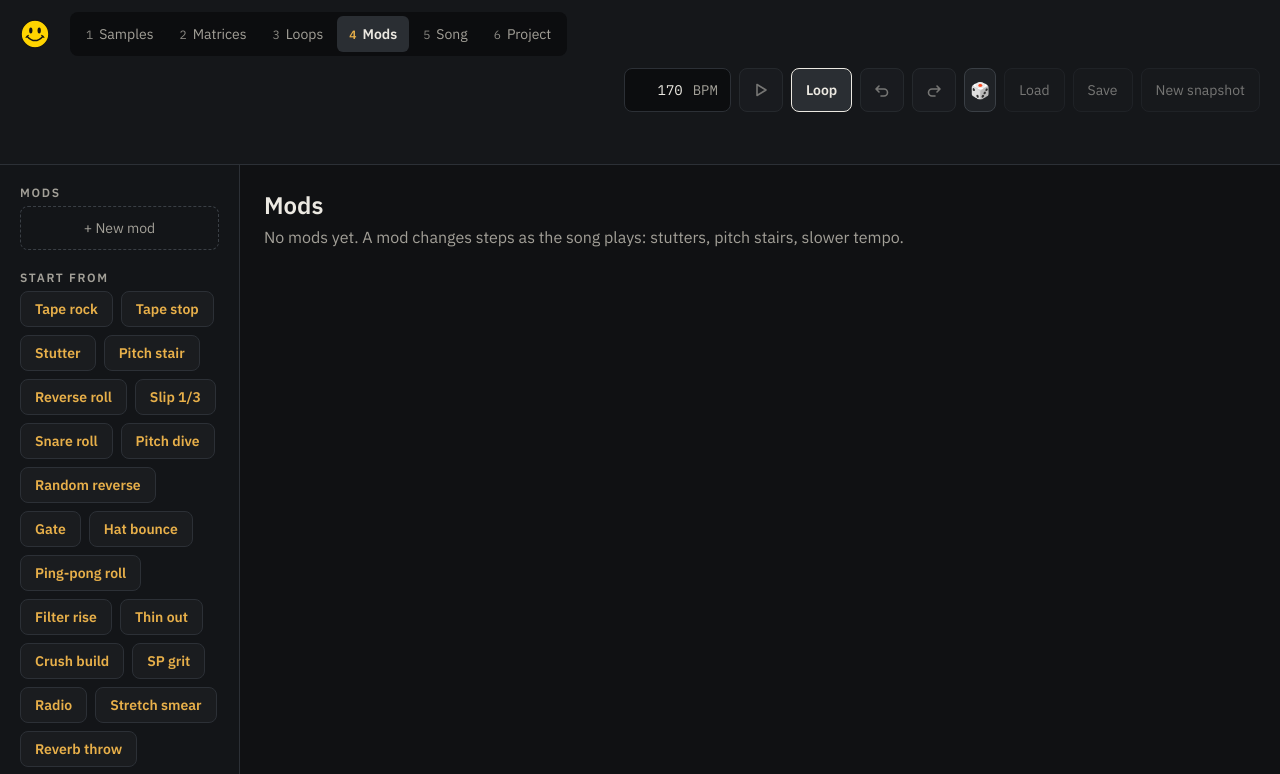
audio mods in Mods › Halftime has no lane: Speed and Keep pitch, and its sentence
Click the button "+ New mod". click: (120, 228)
box: [20,206,219,250]
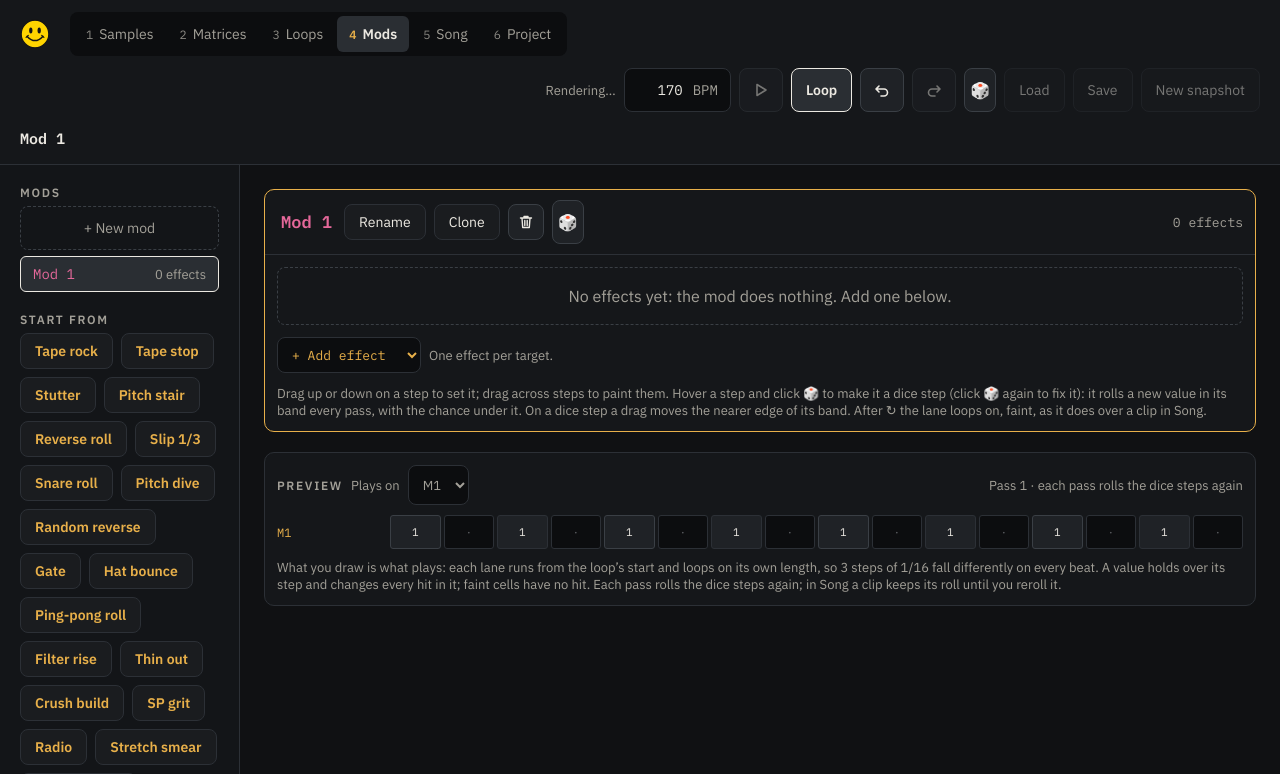
Select "Halftime" in the dropdown named "Add effect". click: (349, 355)
box: [277,337,421,373]
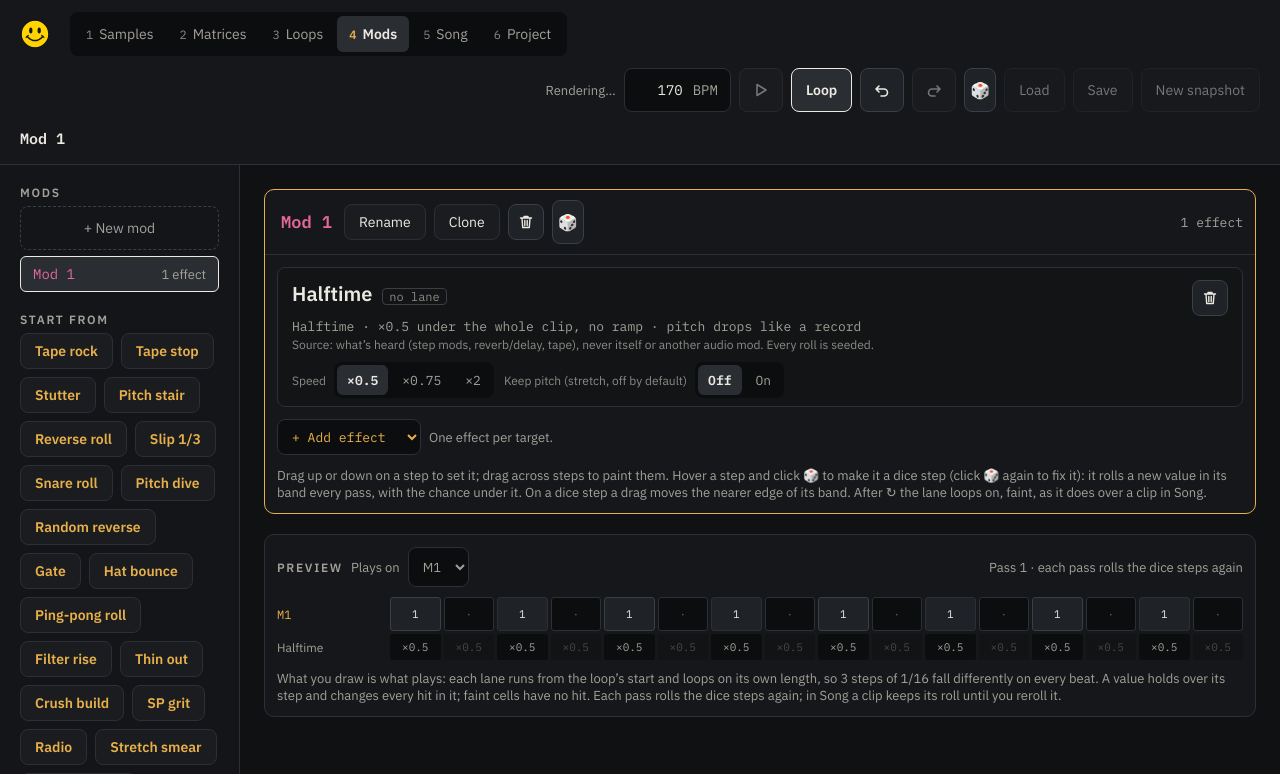
Expected: the text "Halftime · ×0.5 under the whole clip, no ramp · pitch drops like a record" is shown, [292,318,861,335]
Click the button "×2". click: (473, 380)
box: [455,365,491,395]
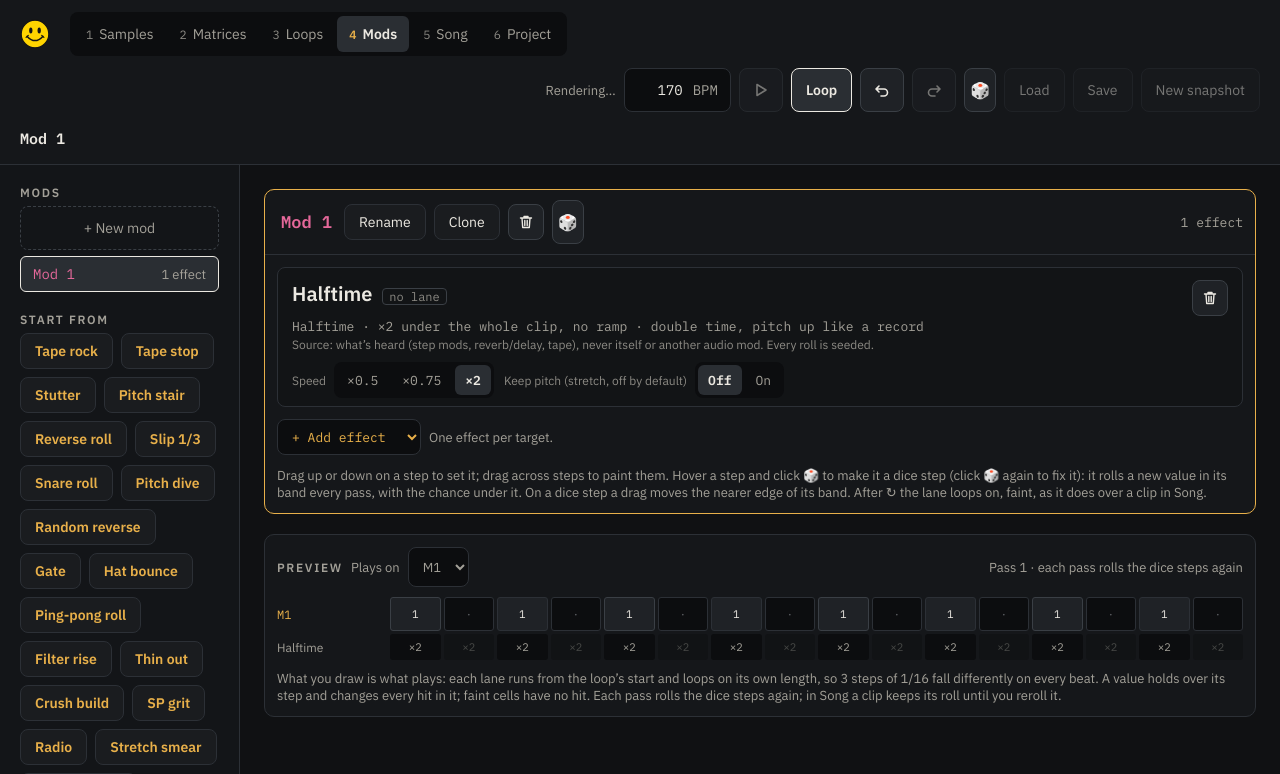
Expected: the text "Halftime · ×2 under the whole clip, no ramp · double time, pitch up like a record" is shown, [292,318,924,335]
Click the button "On". click: (763, 380)
box: [746,365,781,395]
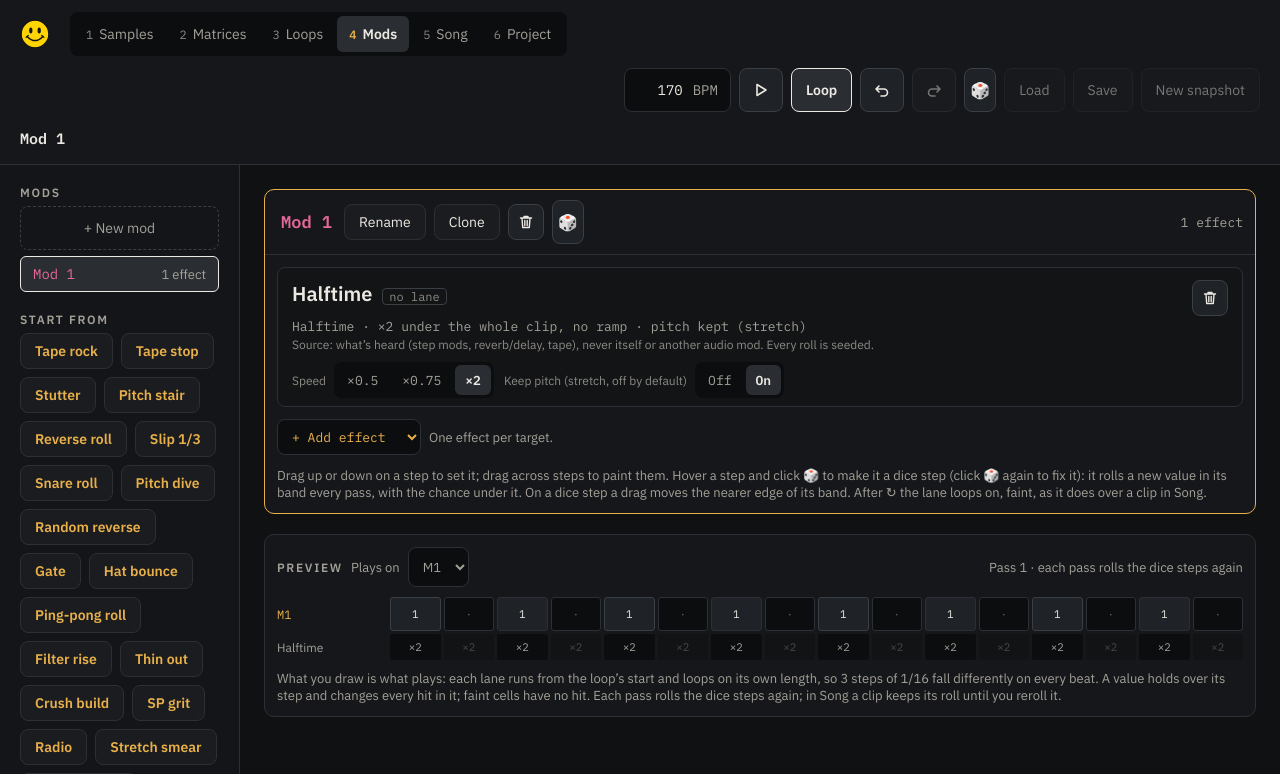
Expected: the text "Source: what’s heard (step mods, reverb/delay, tape), never itself or another audio mod. Every roll is seeded." is shown, [292,337,874,352]
Expected: the text "Halftime · ×2 under the whole clip, no ramp · pitch kept (stretch)" is shown, [292,318,807,335]
